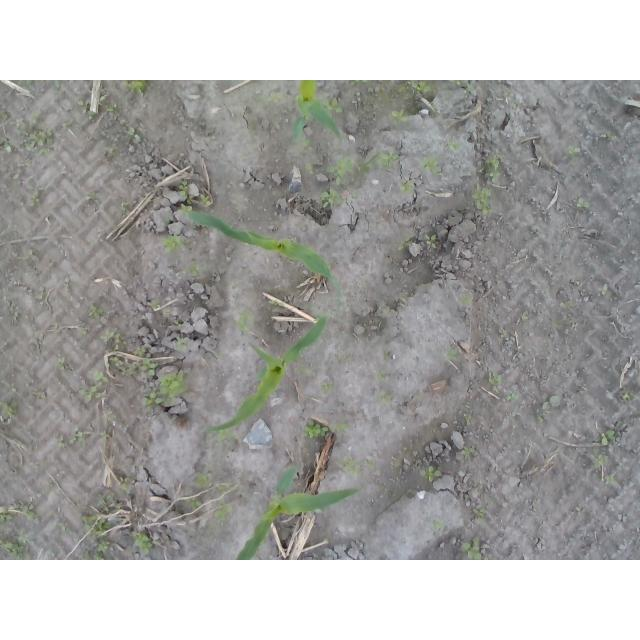Maize: (203, 312, 326, 435), (183, 209, 343, 296), (234, 466, 358, 560), (292, 80, 344, 140)
Weeds: (96, 327, 157, 378), (142, 371, 194, 417), (16, 111, 56, 156), (322, 158, 370, 186), (0, 529, 32, 560), (79, 370, 109, 402), (337, 454, 376, 478), (79, 513, 113, 538), (0, 502, 34, 525), (320, 188, 357, 208), (207, 501, 233, 529), (472, 185, 495, 216), (370, 149, 400, 170), (161, 234, 190, 255), (95, 490, 122, 512), (80, 541, 111, 560), (417, 155, 443, 177), (121, 80, 154, 97), (398, 80, 433, 96), (234, 310, 256, 335), (76, 95, 97, 121), (132, 530, 153, 556), (56, 432, 89, 448), (483, 154, 501, 183), (462, 536, 483, 560), (304, 418, 329, 438), (418, 463, 443, 481), (320, 97, 345, 113), (184, 261, 208, 277), (100, 95, 119, 114), (127, 126, 145, 144), (391, 108, 410, 125), (0, 132, 16, 152), (193, 470, 209, 490), (255, 93, 281, 105), (87, 302, 106, 318), (0, 398, 16, 417), (544, 394, 561, 411), (183, 495, 202, 510), (334, 296, 351, 312), (295, 363, 314, 377), (600, 430, 616, 446), (447, 136, 462, 153), (375, 391, 393, 405), (488, 367, 502, 385), (143, 298, 162, 311), (471, 504, 486, 520), (181, 196, 193, 216), (176, 335, 189, 353), (592, 453, 608, 467), (303, 139, 317, 154), (456, 293, 472, 306), (218, 428, 234, 441), (425, 233, 438, 249), (79, 320, 90, 338), (462, 446, 476, 460), (179, 180, 190, 197), (304, 163, 317, 177), (401, 180, 415, 193), (577, 197, 592, 209), (504, 391, 520, 402), (119, 478, 129, 495), (568, 144, 581, 157), (335, 423, 350, 434), (30, 192, 40, 208), (16, 80, 33, 89), (375, 369, 385, 384), (448, 81, 469, 88), (351, 80, 369, 88), (321, 383, 334, 394), (447, 351, 459, 362), (199, 195, 211, 206), (464, 83, 472, 98), (98, 430, 108, 442), (120, 202, 129, 215), (431, 519, 442, 529), (622, 392, 634, 401), (575, 503, 585, 513), (597, 287, 607, 297), (87, 191, 97, 201), (216, 482, 228, 490), (56, 359, 65, 369), (463, 415, 471, 426), (522, 311, 530, 322), (608, 474, 616, 483), (399, 240, 406, 249), (176, 320, 183, 329), (537, 415, 544, 423), (271, 301, 279, 308), (54, 523, 63, 529), (591, 476, 601, 481)
